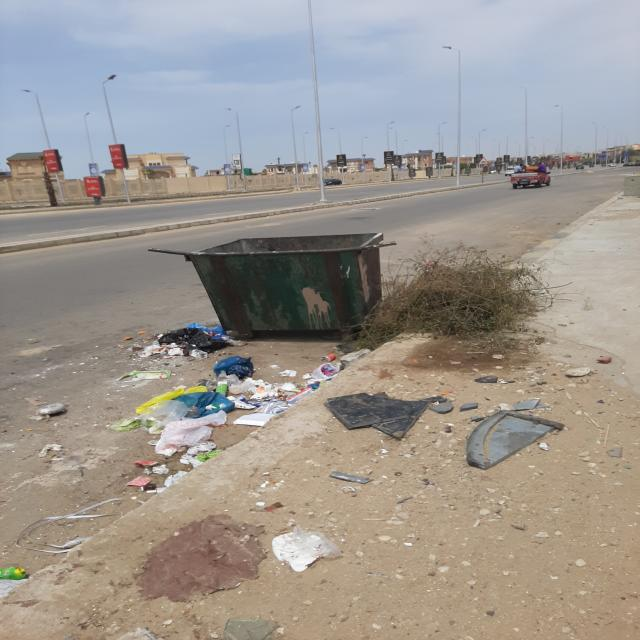Street Light: (21, 89, 65, 204), (100, 74, 132, 201), (442, 45, 462, 187), (223, 108, 248, 192), (84, 112, 100, 200), (290, 105, 302, 189), (552, 104, 564, 174), (386, 121, 395, 182)
